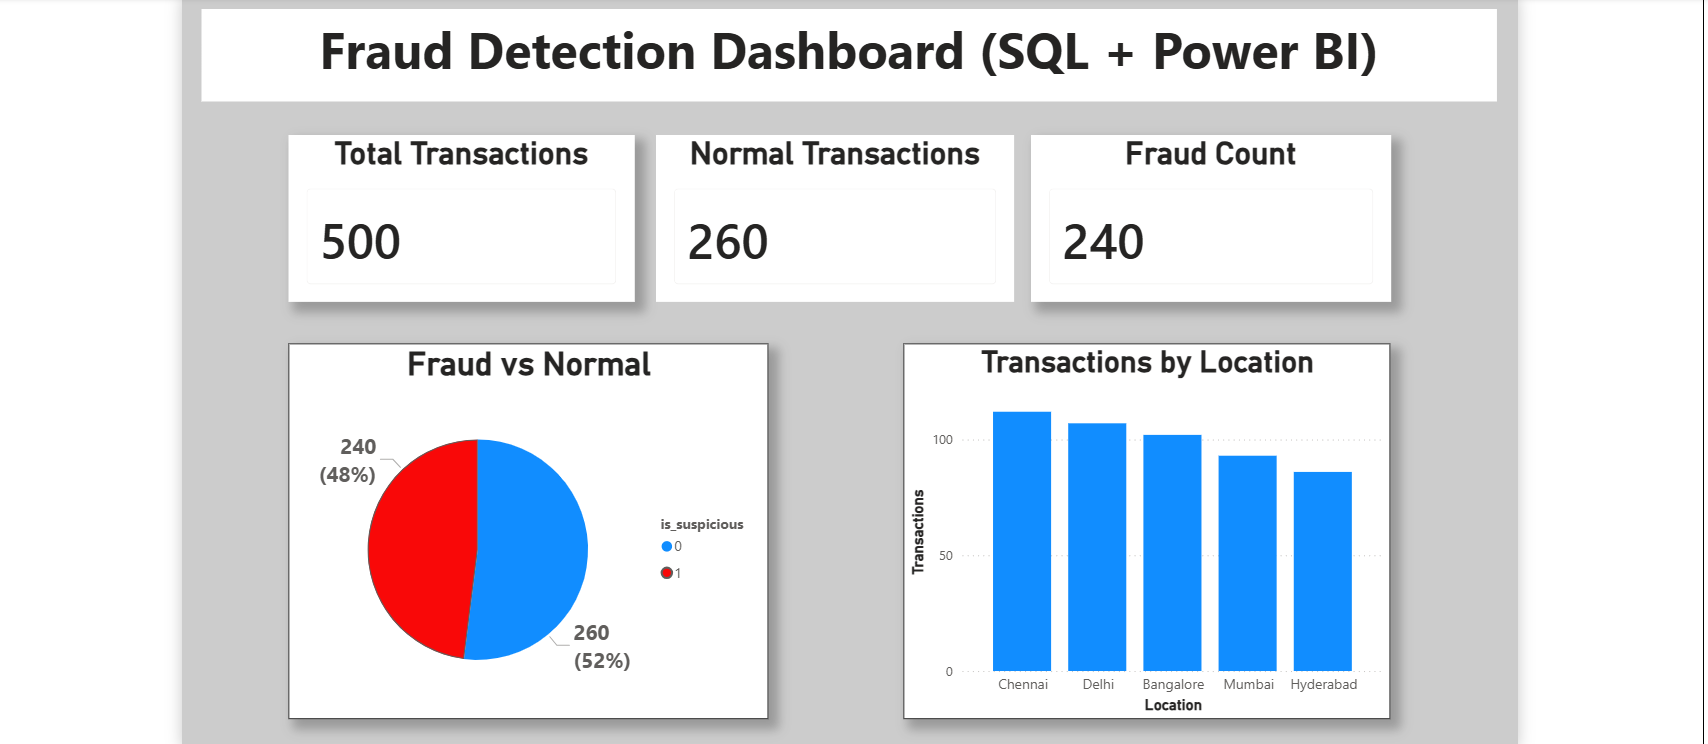

This screenshot's page, from the dashboard's own definition file:
{"tool":"powerbi","page":{"name":"Page 1","canvas":[1280,720],"ordinal":0},"visuals":[{"type":"pieChart","title":"Fraud vs Normal","fields":{"Y":["CountNonNull(fraud_db fraud_results.transaction_id)"],"Category":["fraud_db fraud_results.is_suspicious"]},"box":[101.7,331.7,460,360],"z":0},{"type":"cardVisual","title":"Total Transactions ","fields":{"Data":["CountNonNull(fraud_db fraud_results.transaction_id)"]},"box":[101.7,131.7,331.7,160],"z":1000},{"type":"cardVisual","title":"Fraud Count","fields":{"Data":["CountNonNull(fraud_db fraud_results.transaction_id)"]},"box":[813.3,131.7,345,160],"z":2000},{"type":"clusteredColumnChart","title":"Transactions by Location ","fields":{"Category":["fraud_db fraud_results.location"],"Y":["CountNonNull(fraud_db fraud_results.transaction_id)"]},"box":[691.7,331.7,466.7,360],"z":3000},{"type":"textbox","box":[18.3,11.7,1241.7,88.3],"z":4000},{"type":"cardVisual","title":"Normal Transactions ","fields":{"Data":["CountNonNull(fraud_db fraud_results.transaction_id)"]},"box":[455,131.7,343.3,160],"z":5000}]}

Visuals, with their boxes on the page's 1280x720 design canvas (x1, y1, x2, y2). These are canvas units, not pixel positions in the 1708x744 screenshot, which may show the page scaled, cropped or inside an application window:
"Fraud vs Normal" pieChart: locate(102, 332, 562, 692)
"Total Transactions " cardVisual: locate(102, 132, 433, 292)
"Fraud Count" cardVisual: locate(813, 132, 1158, 292)
"Transactions by Location " clusteredColumnChart: locate(692, 332, 1158, 692)
textbox: locate(18, 12, 1260, 100)
"Normal Transactions " cardVisual: locate(455, 132, 798, 292)
